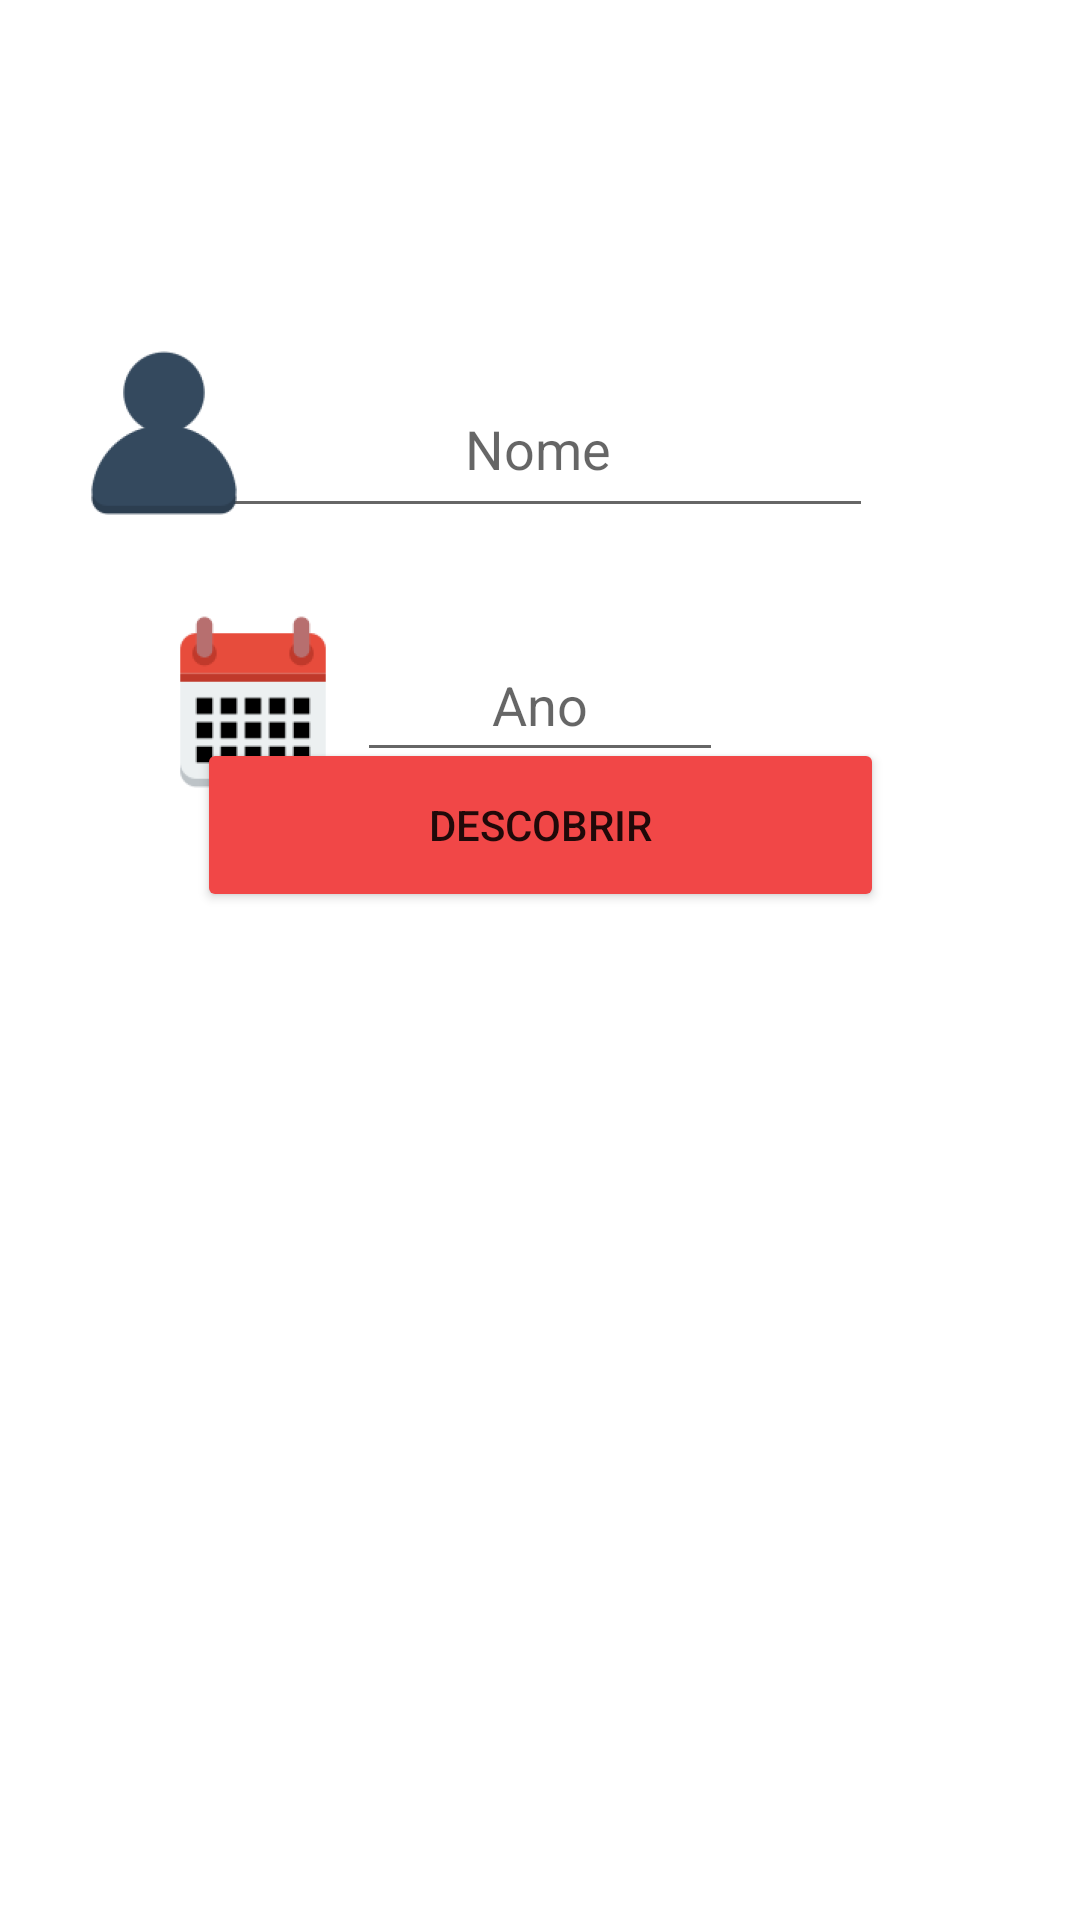

Screen size 1080×1920. Icon name, then its box in pixels as detection(x1, y1, x2, y2):
usuario: detection(91, 351, 326, 515)
